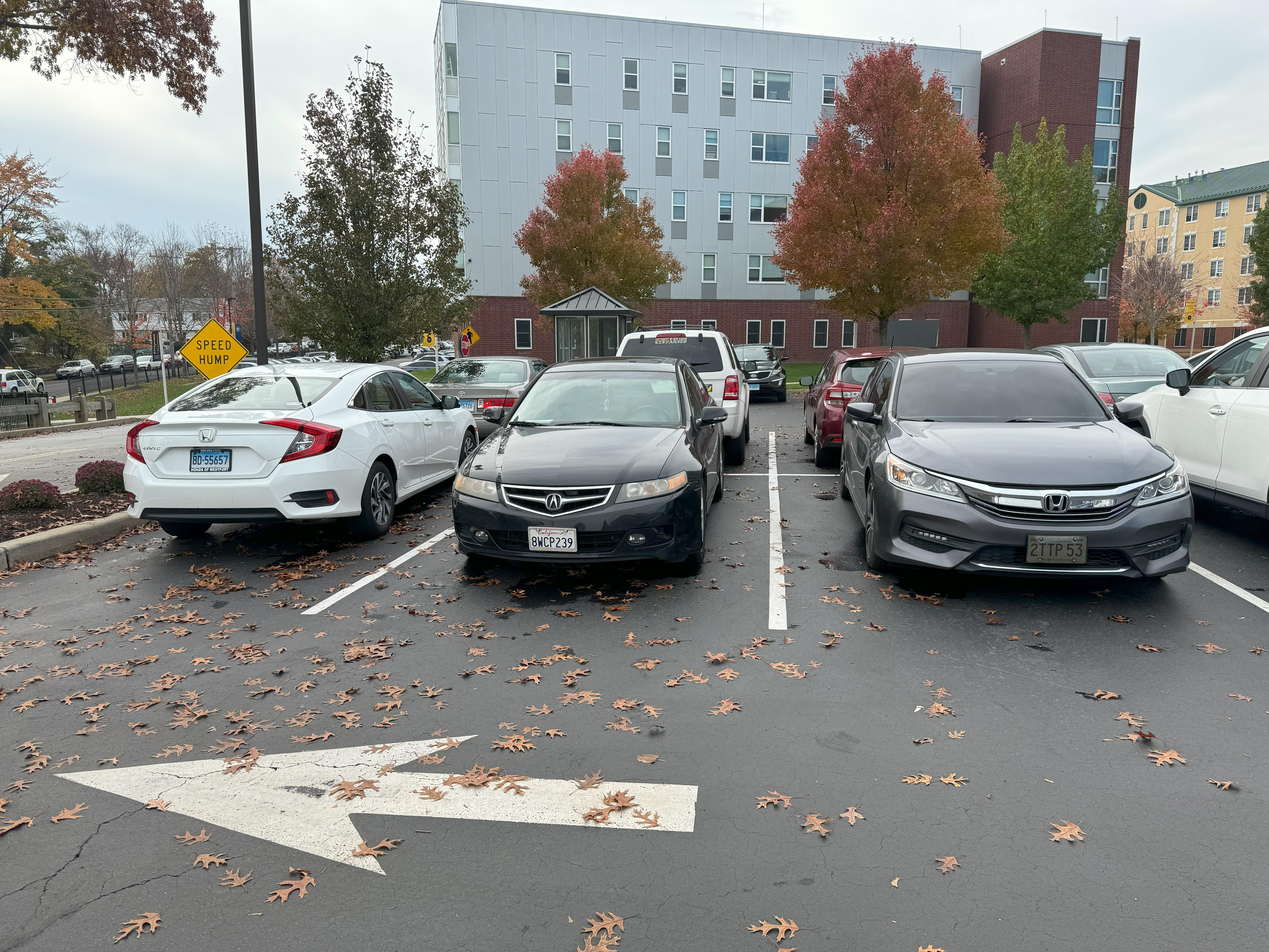occupied: (834, 307, 1187, 629), (422, 354, 784, 593), (107, 345, 430, 572), (609, 323, 770, 423), (1209, 309, 1269, 577), (800, 332, 880, 460)
